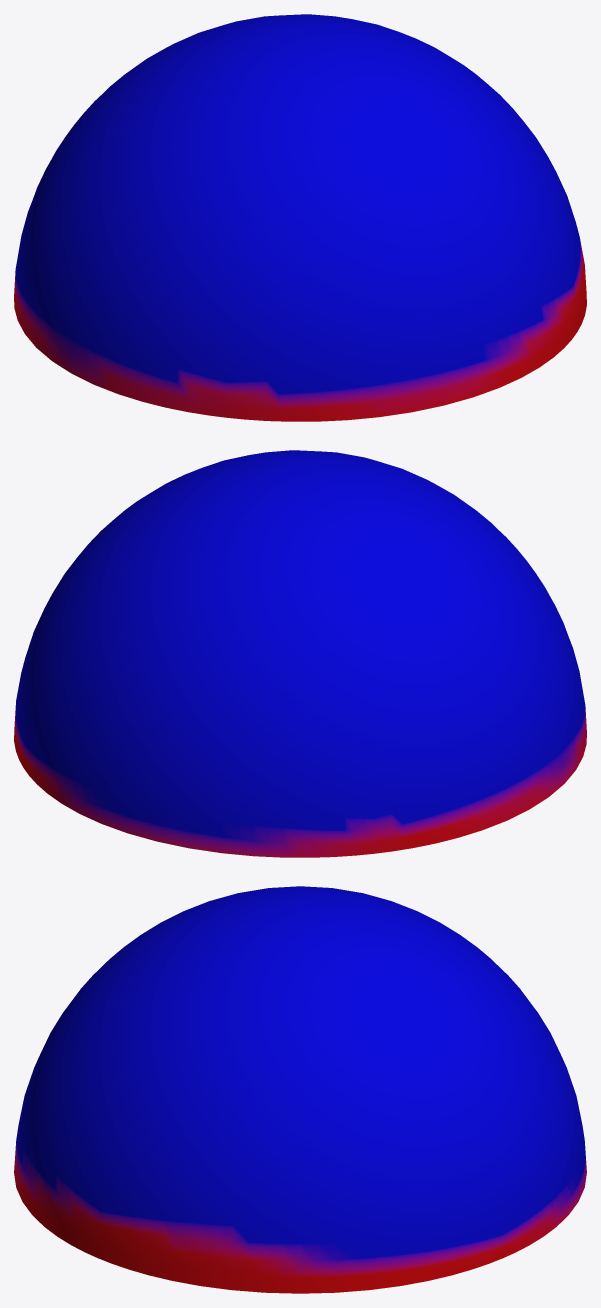
The model's file is S_SkySphere.fbx.
3 renders of one model, top to bottom at view 1: azimuth 30°, elevation 25°; view 2: azimuth 150°, elevation 25°; view 3: azimuth 270°, elevation 25°, orthographic.
Parts seen in each view (by area): view 1: HalfSphere; view 2: HalfSphere; view 3: HalfSphere.
Boxes of the visible parts, left/top/right/bottom form: HalfSphere: left=14, top=14, right=586, bottom=421; HalfSphere: left=14, top=450, right=586, bottom=857; HalfSphere: left=14, top=886, right=586, bottom=1293.
Bounding box in the file's own units: 100 × 50 × 100.
